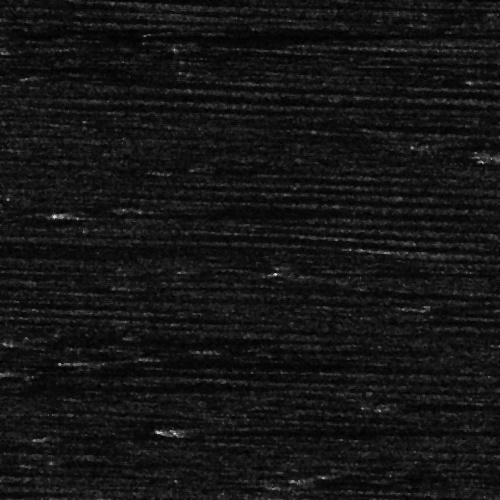object: (204, 265, 339, 278), (45, 355, 150, 368), (24, 208, 129, 219), (116, 424, 231, 433), (332, 399, 395, 408), (0, 366, 58, 373), (289, 474, 330, 483), (0, 338, 48, 343), (115, 205, 146, 210), (213, 347, 254, 350), (0, 382, 10, 389)
shadow: (0, 35, 359, 50), (77, 208, 426, 219), (98, 355, 362, 368), (0, 488, 363, 495), (272, 265, 456, 278), (174, 424, 437, 433), (17, 366, 275, 373), (17, 338, 363, 343), (0, 382, 230, 389), (0, 380, 224, 387), (0, 248, 204, 255), (0, 378, 169, 383), (364, 399, 456, 408), (310, 474, 399, 483), (0, 383, 154, 388), (131, 205, 219, 210), (234, 347, 324, 350)
